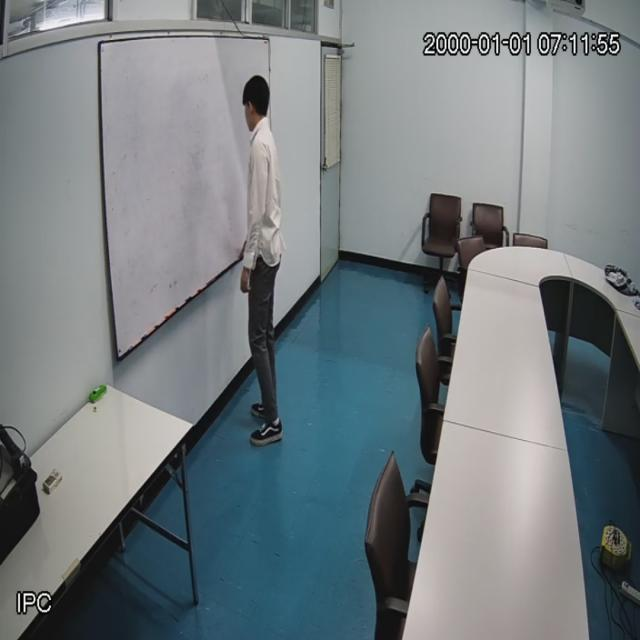normal: (236, 74, 286, 444)
